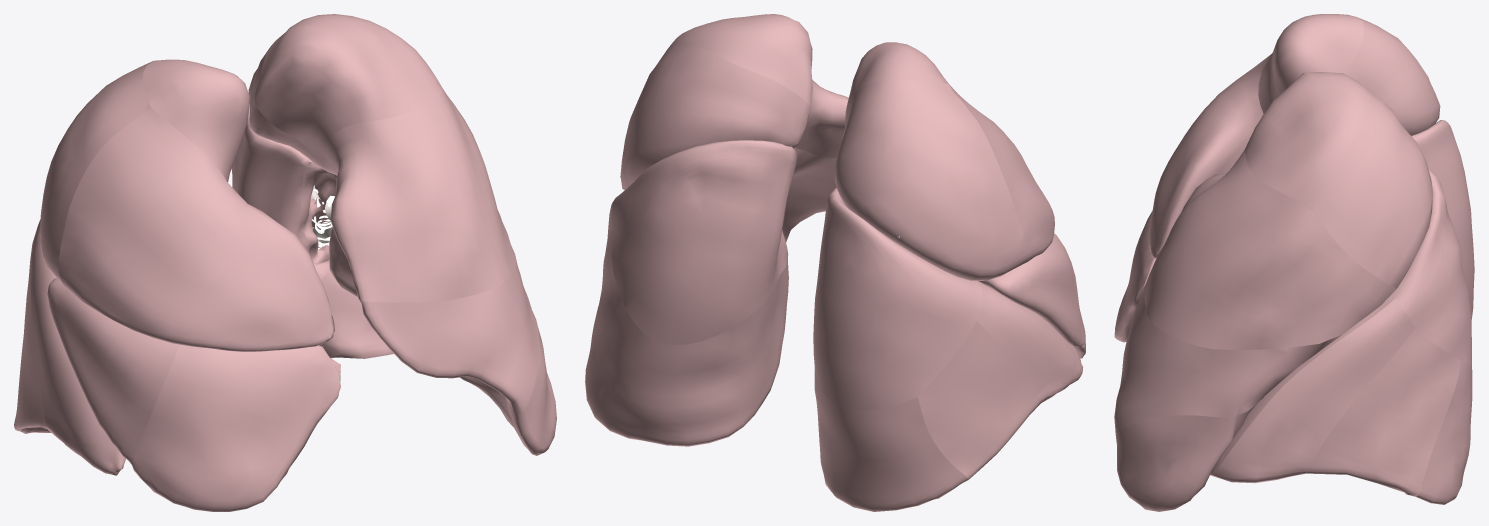
The model's file is organ_lung_m.glb.
The picture shows the model from 3 angles, left to right: view 1: azimuth 30°, elevation 25°; view 2: azimuth 150°, elevation 25°; view 3: azimuth 270°, elevation 25°; orthographic projection. The views are drawn at different scales.
Visible parts, largest first — view 1: VH_M_right_anterior_bronchopulmonary_segment, VH_M_left_anterior_bronchopulmonary_segment, VH_M_right_medial_bronchopulmonary_segment, VH_M_left_apical_bronchopulmonary_segment, VH_M_left_lingula_superior_bronchopulmonary_segment, VH_M_right_lateral_bronchopulmonary_segment, VH_M_right_apical_bronchopulmonary_segment, VH_M_right_posterior_bronchopulmonary_segment, VH_M_right_anterior_basal_bronchopulmonary_segment, VH_M_left_superior_bronchopulmonary_segment, VH_M_left_lingula_inferior_bronchopulmonary_segment, VH_M_left_medial_basal_bronchopulmonary_segment (+4 smaller); view 2: VH_M_left_superior_bronchopulmonary_segment, VH_M_right_posterior_bronchopulmonary_segment, VH_M_right_superior_bronchopulmonary_segment, VH_M_left_posetrior_basal_bronchopulmonary_segment, VH_M_left_posterior_bronchopulmonary_segment, VH_M_right_posterior_basal_bronchopulmonary_segment, VH_M_right_lateral_basal_bronchopulmonary_segment, VH_M_left_apical_bronchopulmonary_segment, VH_M_right_anterior_basal_bronchopulmonary_segment, VH_M_right_lateral_bronchopulmonary_segment, VH_M_right_anterior_bronchopulmonary_segment, VH_M_left_lingula_superior_bronchopulmonary_segment (+3 smaller); view 3: VH_M_left_anterior_bronchopulmonary_segment, VH_M_left_lateral_basal_bronchopulmonary_segment, VH_M_left_posterior_bronchopulmonary_segment, VH_M_left_anterior_basal_bronchopulmonary_segment, VH_M_left_lingula_superior_bronchopulmonary_segment, VH_M_left_apical_bronchopulmonary_segment, VH_M_left_lingula_inferior_bronchopulmonary_segment, VH_M_right_anterior_bronchopulmonary_segment, VH_M_left_superior_bronchopulmonary_segment, VH_M_right_apical_bronchopulmonary_segment, VH_M_right_posterior_bronchopulmonary_segment, VH_M_left_posetrior_basal_bronchopulmonary_segment (+3 smaller).
Boxes of the visible parts, bbox=[...] form: VH_M_right_anterior_bronchopulmonary_segment: bbox=[59, 108, 334, 351]; VH_M_left_anterior_bronchopulmonary_segment: bbox=[325, 89, 516, 302]; VH_M_right_medial_bronchopulmonary_segment: bbox=[132, 344, 340, 511]; VH_M_left_apical_bronchopulmonary_segment: bbox=[254, 14, 442, 162]; VH_M_left_lingula_superior_bronchopulmonary_segment: bbox=[359, 256, 538, 413]; VH_M_right_lateral_bronchopulmonary_segment: bbox=[47, 278, 179, 465]; VH_M_right_apical_bronchopulmonary_segment: bbox=[143, 59, 249, 182]; VH_M_right_posterior_bronchopulmonary_segment: bbox=[40, 61, 152, 284]; VH_M_right_anterior_basal_bronchopulmonary_segment: bbox=[31, 269, 125, 475]; VH_M_left_superior_bronchopulmonary_segment: bbox=[232, 104, 312, 237]; VH_M_left_lingula_inferior_bronchopulmonary_segment: bbox=[329, 245, 556, 455]; VH_M_left_medial_basal_bronchopulmonary_segment: bbox=[319, 271, 393, 358]; VH_M_left_superior_bronchopulmonary_segment: bbox=[611, 140, 797, 344]; VH_M_right_posterior_bronchopulmonary_segment: bbox=[834, 80, 1027, 280]; VH_M_right_superior_bronchopulmonary_segment: bbox=[813, 187, 982, 410]; VH_M_left_posetrior_basal_bronchopulmonary_segment: bbox=[585, 262, 788, 446]; VH_M_left_posterior_bronchopulmonary_segment: bbox=[622, 41, 810, 186]; VH_M_right_posterior_basal_bronchopulmonary_segment: bbox=[814, 369, 968, 511]; VH_M_right_lateral_basal_bronchopulmonary_segment: bbox=[918, 321, 1040, 479]; VH_M_left_apical_bronchopulmonary_segment: bbox=[669, 14, 812, 106]; VH_M_right_anterior_basal_bronchopulmonary_segment: bbox=[976, 280, 1083, 402]; VH_M_right_lateral_bronchopulmonary_segment: bbox=[978, 233, 1084, 348]; VH_M_right_anterior_bronchopulmonary_segment: bbox=[949, 84, 1054, 261]; VH_M_left_lingula_superior_bronchopulmonary_segment: bbox=[623, 148, 836, 239]; VH_M_left_anterior_bronchopulmonary_segment: bbox=[1144, 149, 1396, 349]; VH_M_left_lateral_basal_bronchopulmonary_segment: bbox=[1306, 328, 1460, 496]; VH_M_left_posterior_bronchopulmonary_segment: bbox=[1313, 102, 1432, 288]; VH_M_left_anterior_basal_bronchopulmonary_segment: bbox=[1210, 298, 1415, 483]; VH_M_left_lingula_superior_bronchopulmonary_segment: bbox=[1114, 283, 1391, 434]; VH_M_left_apical_bronchopulmonary_segment: bbox=[1245, 72, 1383, 211]; VH_M_left_lingula_inferior_bronchopulmonary_segment: bbox=[1115, 403, 1257, 511]; VH_M_right_anterior_bronchopulmonary_segment: bbox=[1149, 53, 1272, 258]; VH_M_left_superior_bronchopulmonary_segment: bbox=[1393, 168, 1471, 366]; VH_M_right_apical_bronchopulmonary_segment: bbox=[1258, 14, 1364, 113]; VH_M_right_posterior_bronchopulmonary_segment: bbox=[1345, 17, 1440, 135]; VH_M_left_posetrior_basal_bronchopulmonary_segment: bbox=[1416, 361, 1472, 504].
Bounding box in the file's own units: 0.2594 × 0.2291 × 0.1897.
